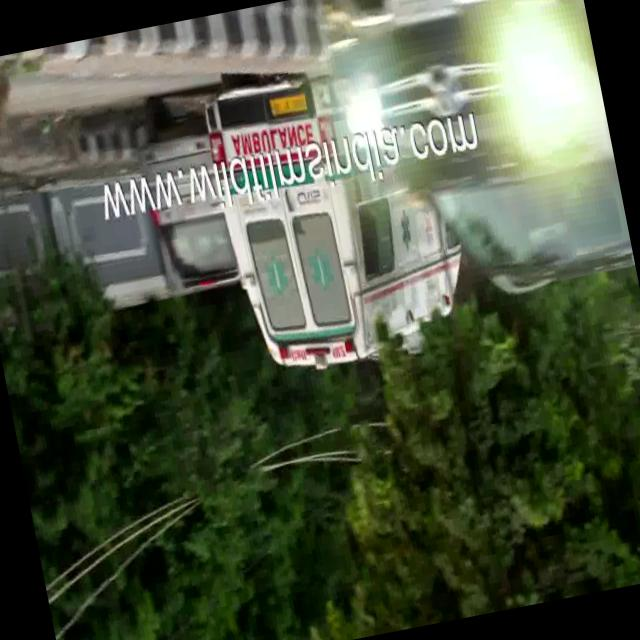ambulance: (225, 176, 464, 393), (196, 71, 339, 168)
